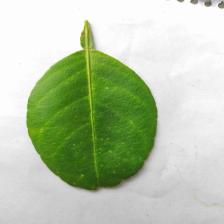greening: (60, 64, 141, 140)
